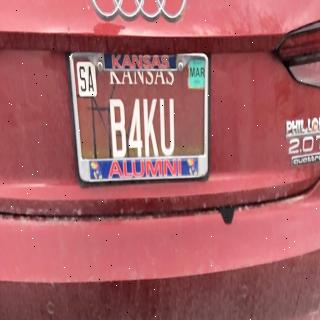license: (71, 55, 208, 184)
